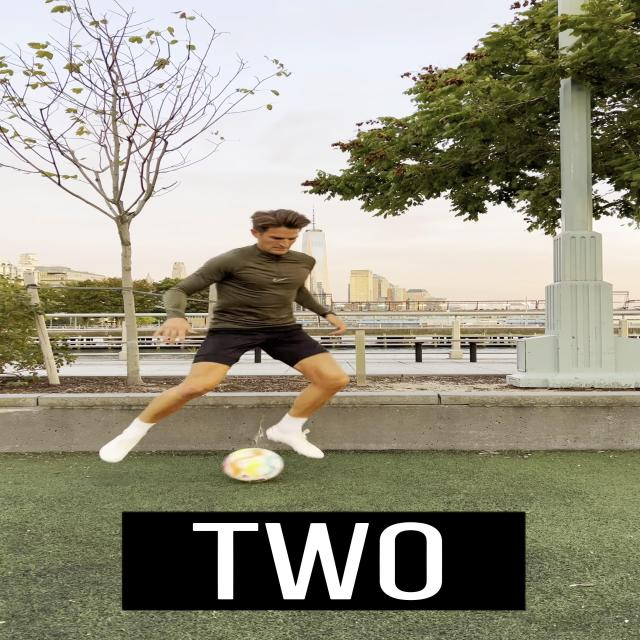Soccer Ball: (220, 448, 284, 485)
